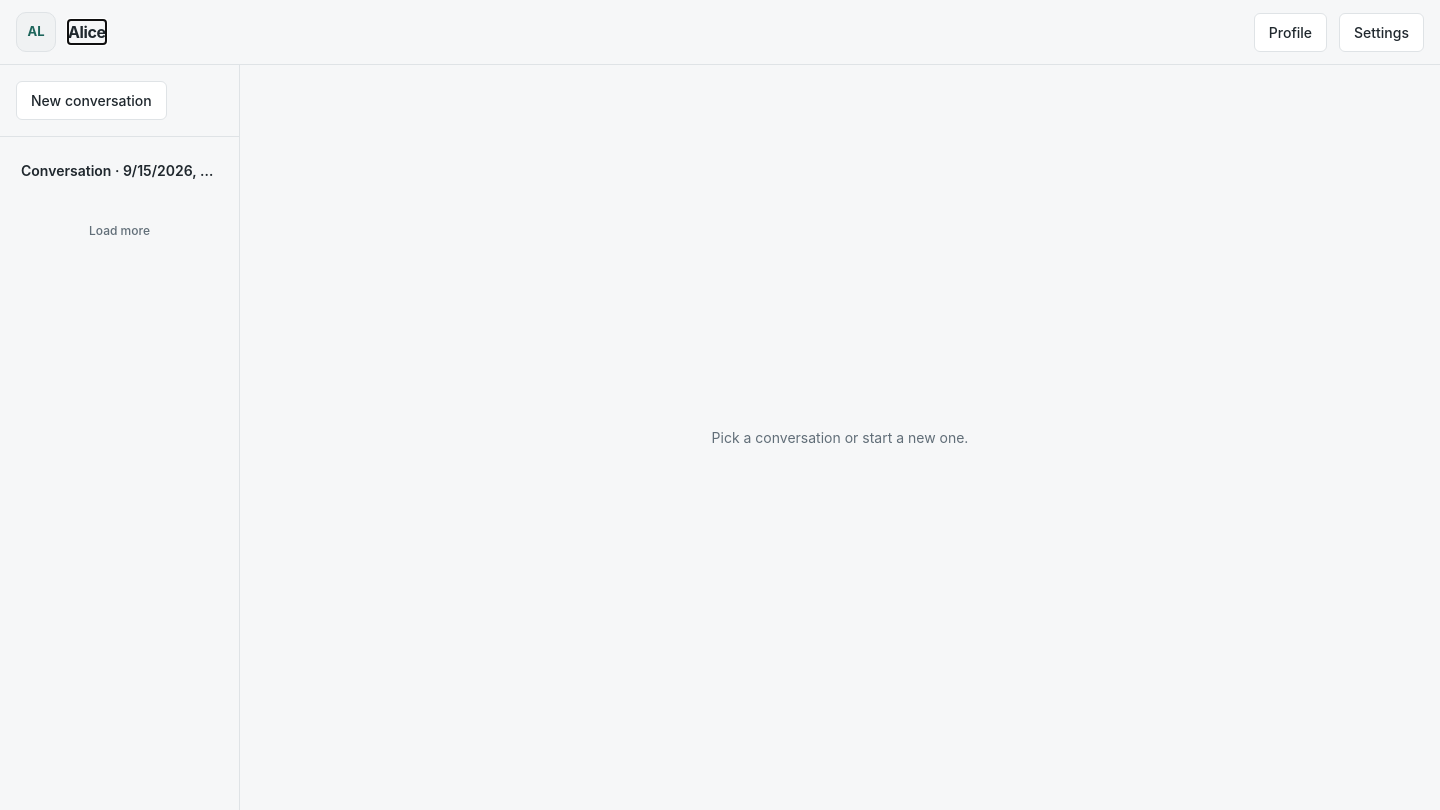
Test case: chat view › shows a paging failure next to Load more, not in the New conversation slot
Expected: the button "Conversation · 9/15/2026, 12:00:00 AM" is shown, [8,145,231,196]
Click the button "Load more" at (120, 231), box [80,212,159,250]
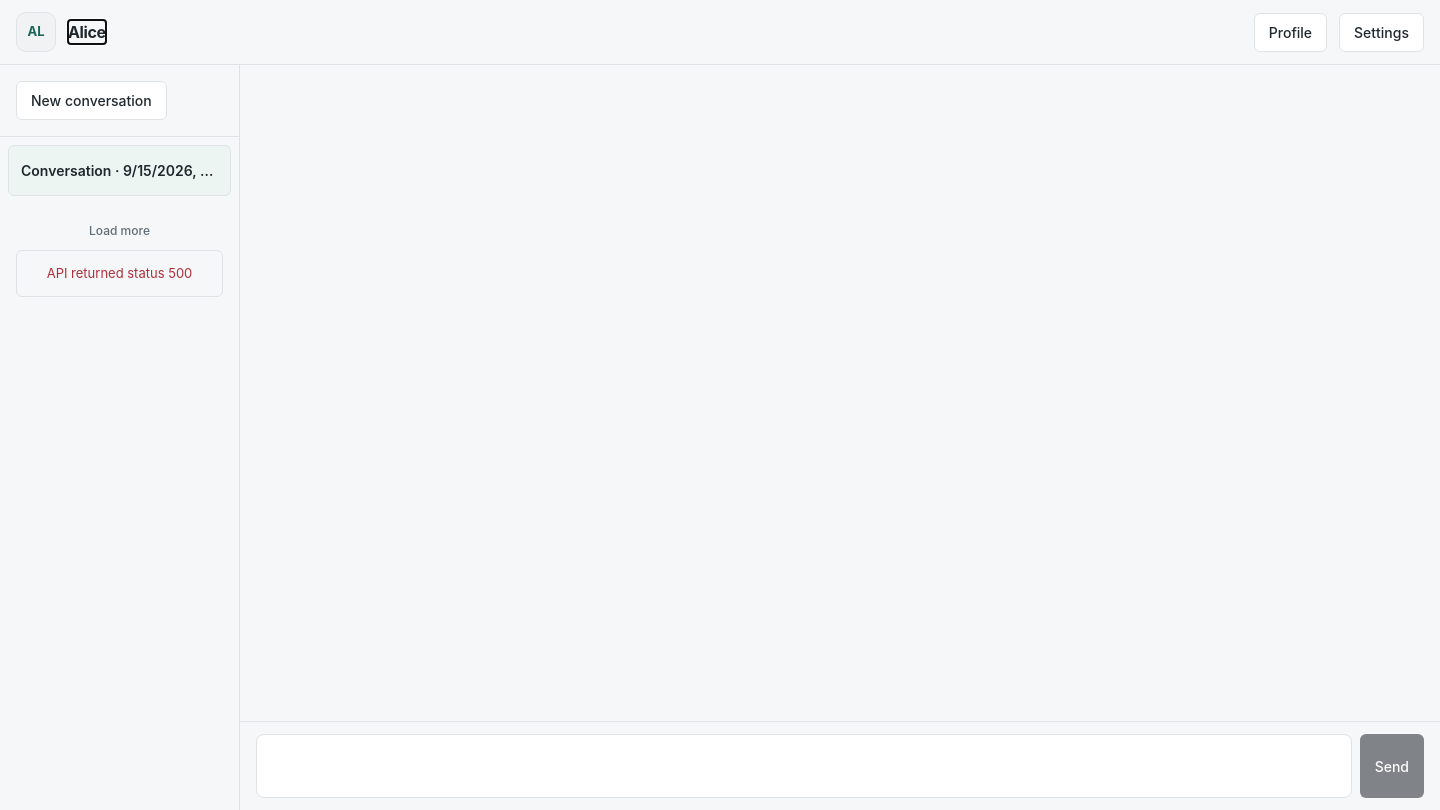
Expected: the element with class "chat-earlier" is shown, [0,204,239,305]
Now the message "API returned status 500" is shown, box [16,250,223,297]
